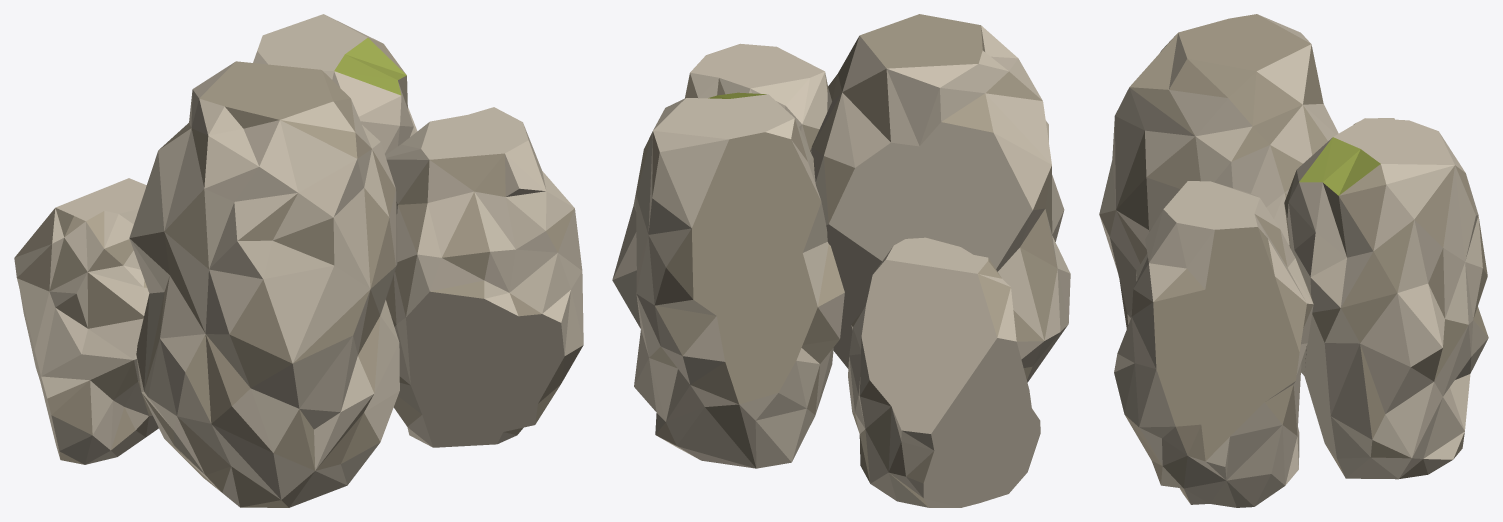
The model's file is rome_rock_c.glb.
3 views of the same model, side by side, from view 1: azimuth 30°, elevation 25°; view 2: azimuth 150°, elevation 25°; view 3: azimuth 270°, elevation 25° (orthographic). The views are drawn at different scales.
Visible parts, largest first — view 1: rome_rock_c; view 2: rome_rock_c; view 3: rome_rock_c.
Part boxes in pixels (x1,y1,x2,y2): rome_rock_c: [14, 14, 583, 507]; rome_rock_c: [612, 14, 1070, 507]; rome_rock_c: [1099, 14, 1488, 507].
Size of the model in its own units: 5.2 by 4.26 by 4.17.
